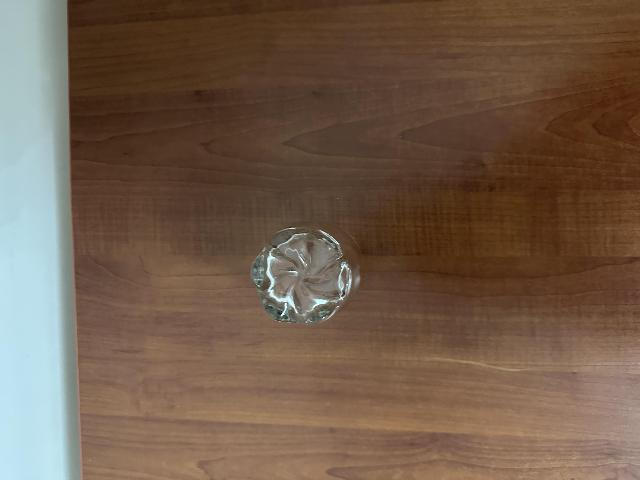Cam: (249, 221, 365, 325)
